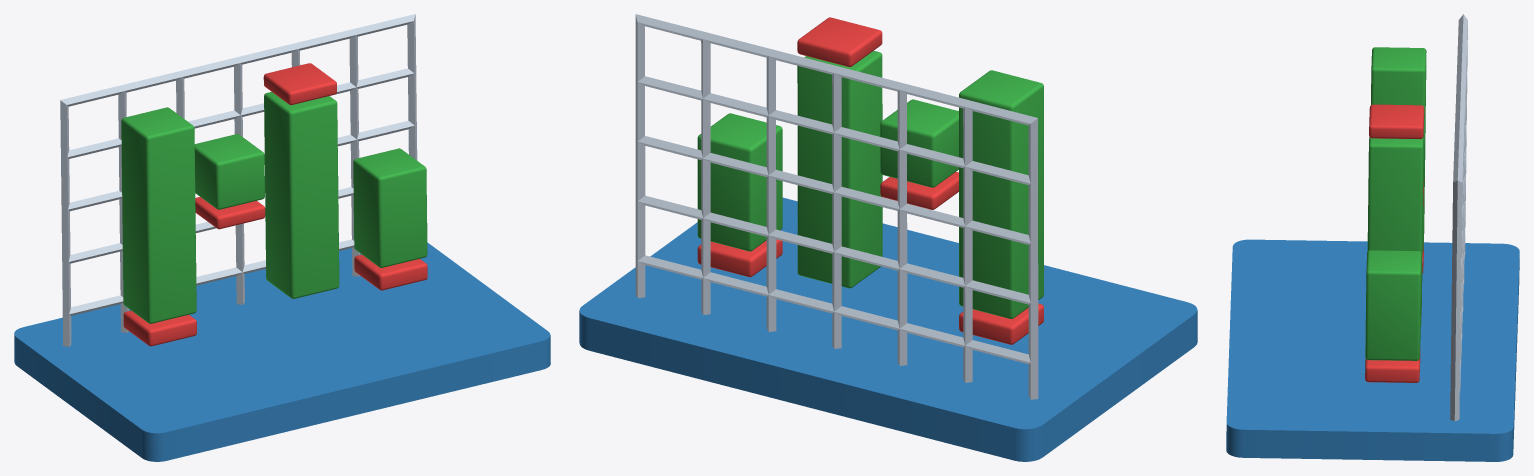
The model's file is NoData.glb.
The picture shows the model from 3 angles, left to right: view 1: azimuth 30°, elevation 25°; view 2: azimuth 150°, elevation 25°; view 3: azimuth 270°, elevation 25°; orthographic projection. The views are drawn at different scales.
Visible parts, largest first — view 1: Cube.066, Plane.015, Cube.068, Cube.069, Cube.072, Cube.074, Cube.070, Cube.067, Cube.071, Cube.073; view 2: Cube.066, Plane.015, Cube.069, Cube.068, Cube.072, Cube.074, Cube.070, Cube.067, Cube.071, Cube.073; view 3: Cube.066, Cube.069, Cube.072, Plane.015, Cube.068, Cube.070, Cube.071.
Part boxes in pixels (<box>): Cube.066: <box>14,242,550,461</box>; Plane.015: <box>60,14,417,346</box>; Cube.068: <box>121,107,196,323</box>; Cube.069: <box>264,92,339,298</box>; Cube.072: <box>353,148,427,267</box>; Cube.074: <box>194,134,264,209</box>; Cube.070: <box>263,63,336,105</box>; Cube.067: <box>123,310,196,346</box>; Cube.071: <box>354,254,427,290</box>; Cube.073: <box>195,197,265,229</box>; Cube.066: <box>579,197,1197,461</box>; Plane.015: <box>635,14,1038,399</box>; Cube.069: <box>797,50,882,288</box>; Cube.068: <box>959,70,1043,318</box>; Cube.072: <box>697,113,782,251</box>; Cube.074: <box>880,99,958,187</box>; Cube.070: <box>797,17,882,66</box>; Cube.067: <box>959,303,1043,344</box>; Cube.071: <box>697,239,782,277</box>; Cube.073: <box>880,172,958,209</box>; Cube.066: <box>1226,239,1519,461</box>; Cube.069: <box>1367,127,1423,326</box>; Cube.072: <box>1365,250,1421,360</box>; Plane.015: <box>1450,14,1467,421</box>; Cube.068: <box>1371,47,1426,251</box>; Cube.070: <box>1369,104,1424,139</box>; Cube.071: <box>1365,349,1420,382</box>.
Bounding box in the file's own units: 4.95 × 3.22 × 3.16.
